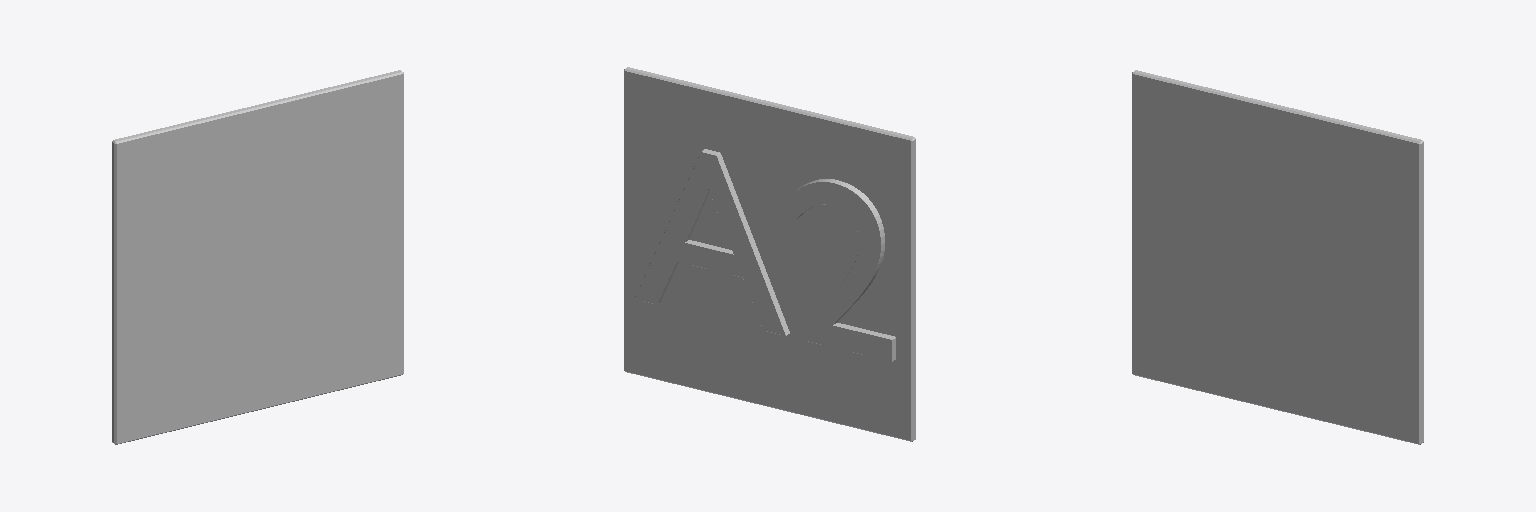
File: panel_A2.obj
3 renders of one model, left to right at view 1: azimuth 30°, elevation 25°; view 2: azimuth 150°, elevation 25°; view 3: azimuth 330°, elevation 25°, orthographic.
Parts seen in each view (by area): view 1: Plane; view 2: Plane, Text; view 3: Plane.
Boxes of the visible parts, x1=… form: Plane: x1=112, y1=70, x2=403, y2=444; Plane: x1=624, y1=67, x2=915, y2=441; Text: x1=635, y1=149, x2=895, y2=361; Plane: x1=1132, y1=70, x2=1423, y2=444.
Bounding box in the file's own units: 4 × 4 × 0.2.